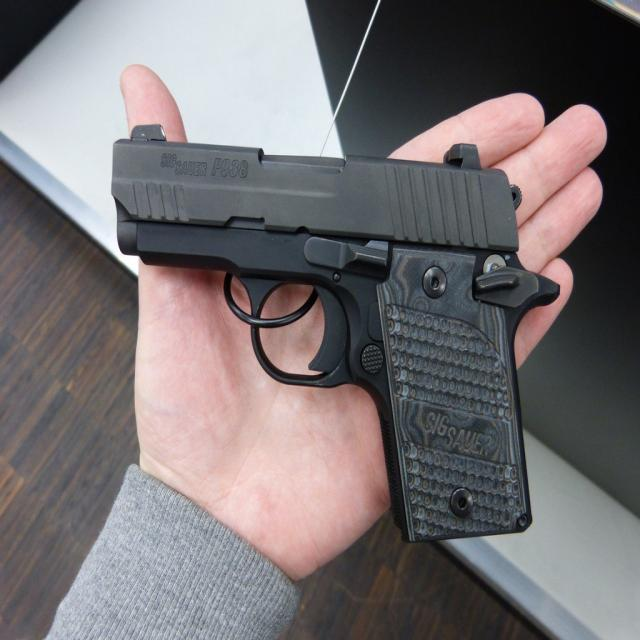pistol: (111, 125, 561, 551)
